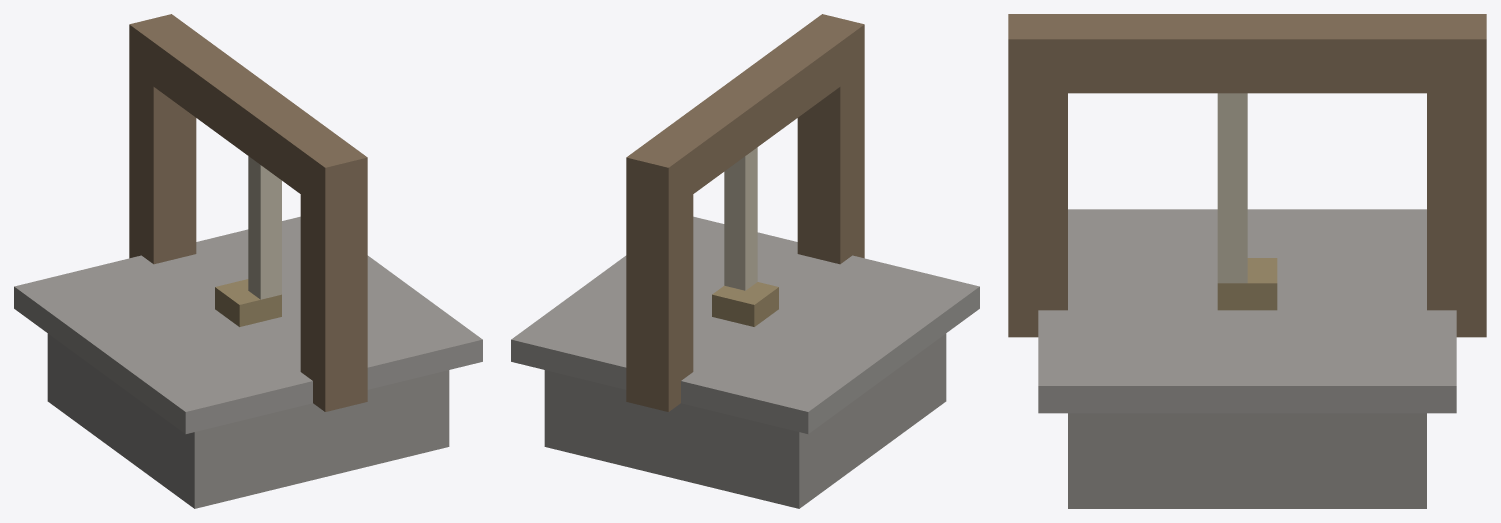
File: pozo_agua_03.glb
The picture shows the model from 3 angles, left to right: view 1: azimuth 30°, elevation 25°; view 2: azimuth 150°, elevation 25°; view 3: azimuth 270°, elevation 25°; orthographic projection. The views are drawn at different scales.
Visible parts, largest first — view 1: pozo_agua_03; view 2: pozo_agua_03; view 3: pozo_agua_03.
Part boxes in pixels (x1,y1,x2,y2): pozo_agua_03: [14, 14, 482, 508]; pozo_agua_03: [511, 14, 979, 508]; pozo_agua_03: [1008, 14, 1486, 508].
Bounding box in the file's own units: 1.4 × 1.5 × 1.6.
